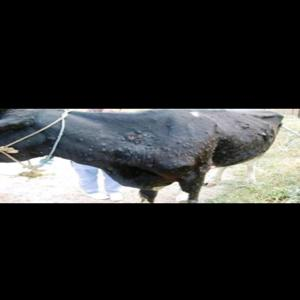lumpy skin diesease: (0, 107, 284, 203)
